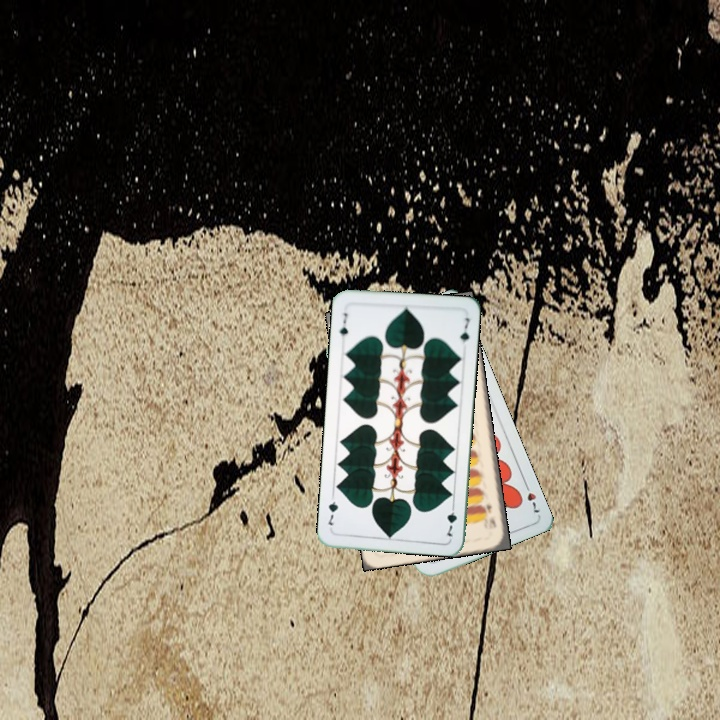E10: (480, 500, 499, 531)
G7: (442, 499, 459, 539), (335, 309, 351, 339)
H7: (520, 478, 543, 515)
